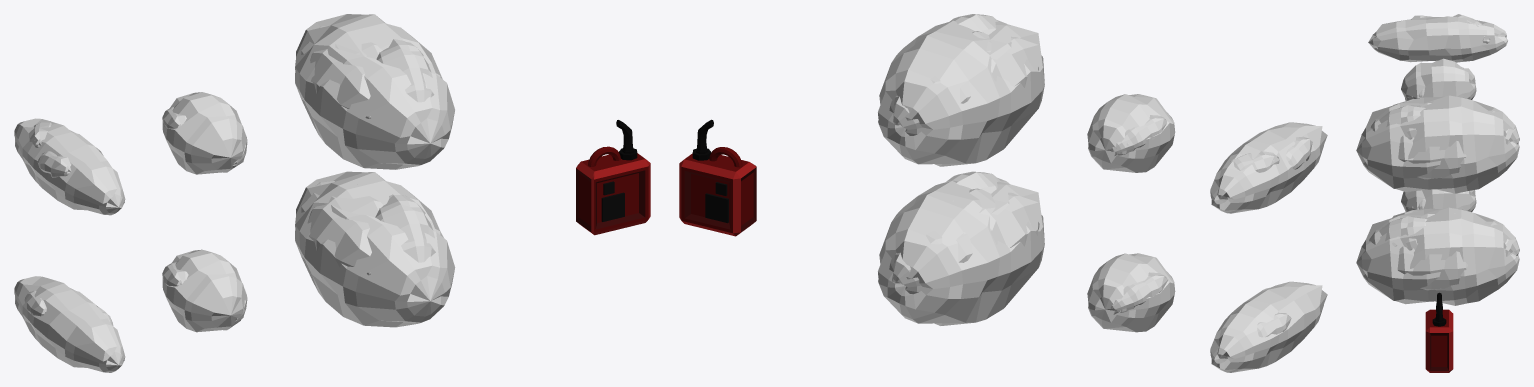
File: Props.fbx
3 views of the same model, side by side, from view 1: azimuth 30°, elevation 25°; view 2: azimuth 150°, elevation 25°; view 3: azimuth 270°, elevation 25° (orthographic). The views are drawn at different scales.
Visible parts, largest first — view 1: Big_Asteroid_Rock, Big_Asteroid_Metal, Large_Asteroid_Rock, Large_Asteroid_Metal, Gasoil, Medium_Asteroid_Rock, Medium_Asteroid_Metal; view 2: Big_Asteroid_Rock, Big_Asteroid_Metal, Large_Asteroid_Rock, Large_Asteroid_Metal, Gasoil, Medium_Asteroid_Metal, Medium_Asteroid_Rock; view 3: Big_Asteroid_Rock, Big_Asteroid_Metal, Large_Asteroid_Metal, Medium_Asteroid_Metal, Gasoil, Medium_Asteroid_Rock.
Part boxes in pixels (bbox=[...]): Big_Asteroid_Rock: bbox=[295, 171, 455, 327]; Big_Asteroid_Metal: bbox=[295, 14, 454, 169]; Large_Asteroid_Rock: bbox=[14, 276, 125, 372]; Large_Asteroid_Metal: bbox=[14, 118, 125, 215]; Gasoil: bbox=[576, 120, 650, 235]; Medium_Asteroid_Rock: bbox=[162, 249, 247, 332]; Medium_Asteroid_Metal: bbox=[162, 92, 247, 174]; Big_Asteroid_Rock: bbox=[878, 171, 1044, 325]; Big_Asteroid_Metal: bbox=[878, 14, 1044, 166]; Large_Asteroid_Rock: bbox=[1210, 281, 1327, 372]; Large_Asteroid_Metal: bbox=[1210, 122, 1327, 213]; Gasoil: bbox=[679, 119, 756, 236]; Medium_Asteroid_Metal: bbox=[1087, 94, 1175, 172]; Medium_Asteroid_Rock: bbox=[1087, 253, 1175, 332]; Big_Asteroid_Rock: bbox=[1356, 207, 1519, 305]; Big_Asteroid_Metal: bbox=[1356, 95, 1519, 193]; Large_Asteroid_Metal: bbox=[1368, 14, 1507, 62]; Medium_Asteroid_Metal: bbox=[1401, 58, 1476, 100]; Gasoil: bbox=[1425, 292, 1453, 372]; Medium_Asteroid_Rock: bbox=[1401, 189, 1476, 211].
Bounding box in the file's own units: 9.91 × 4.41 × 3.26.
